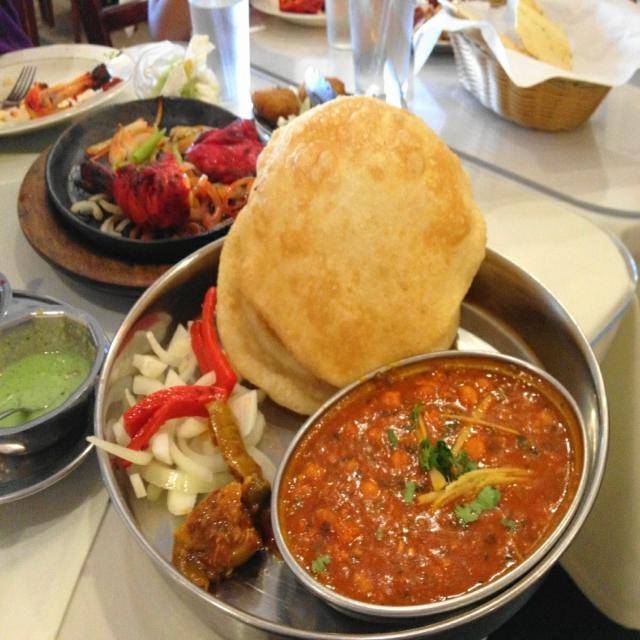Bhatura: (217, 95, 487, 412)
